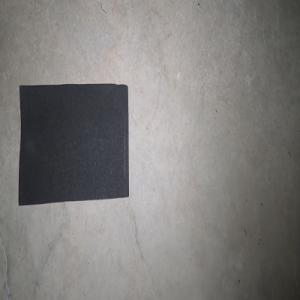PaintChip: (18, 83, 129, 205)
